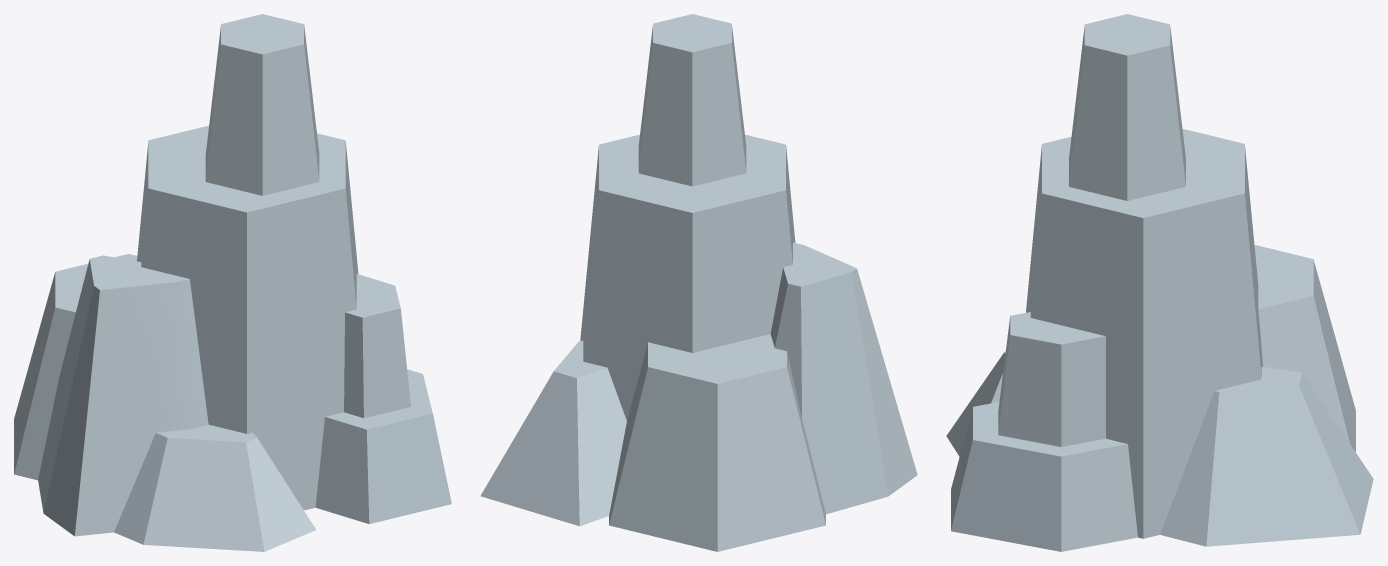
The model's file is formation_stone.glb.
3 renders of one model, left to right at view 1: azimuth 30°, elevation 25°; view 2: azimuth 150°, elevation 25°; view 3: azimuth 270°, elevation 25°, orthographic. The views are drawn at different scales.
Visible parts, largest first — view 1: formation_stone; view 2: formation_stone; view 3: formation_stone.
Boxes of the visible parts, x1,y1,x2,y2 form: formation_stone: [14, 14, 451, 551]; formation_stone: [480, 14, 917, 551]; formation_stone: [946, 14, 1373, 551].
Size of the model in its own units: 1.06 by 1.22 by 1.07.
